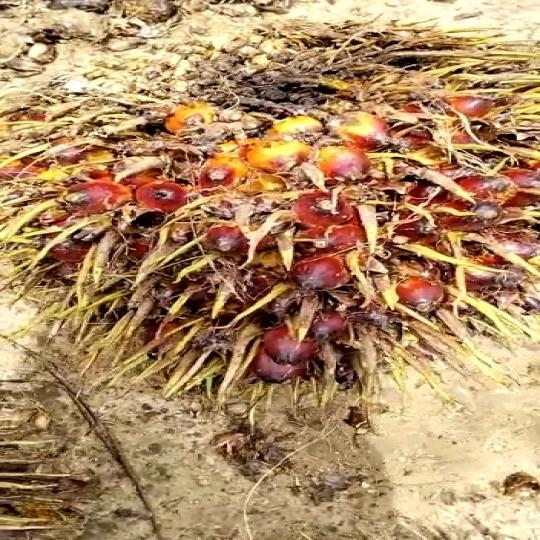masak: (0, 14, 540, 425)
